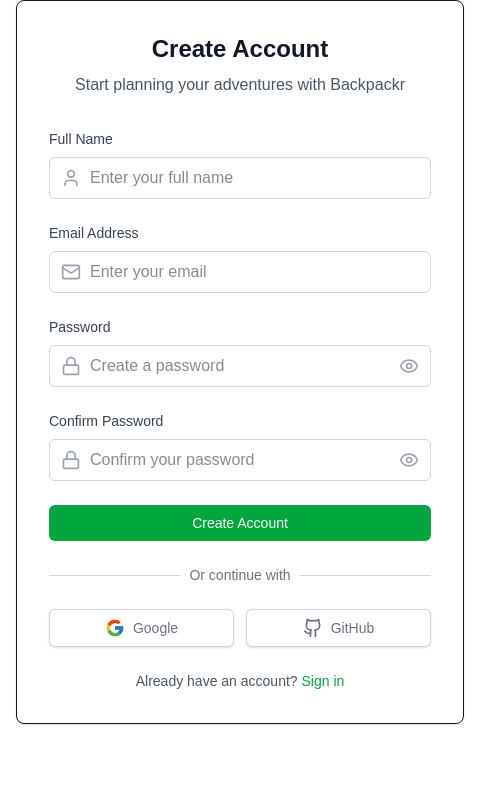
Test case: SignupForm › Form Validation › shows error when password is empty
Type "John Doe" into the field labelled "Full Name" at (240, 178), box [49,157,431,199]
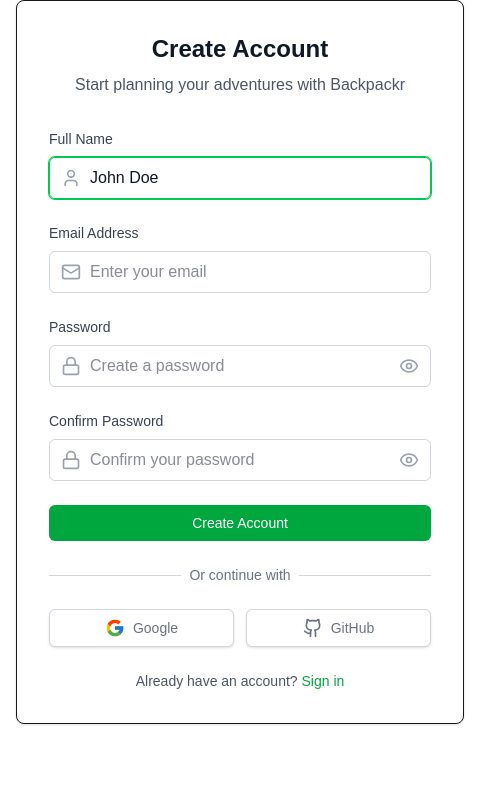
Type "john@example.com" into the field labelled "Email Address" at (240, 272), box [49,251,431,293]
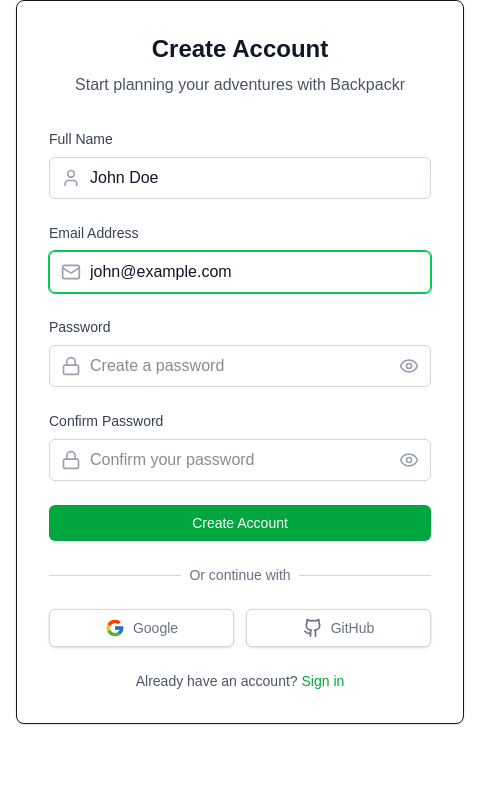
Type "password123" into the password field labelled "Confirm Password" at (240, 460), box [49,439,431,481]
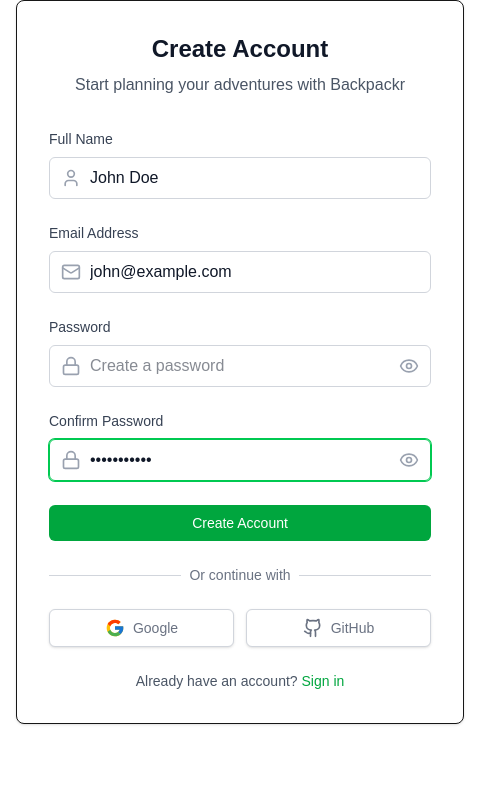
Click the button "Create Account" at (240, 523), box [49,505,431,541]
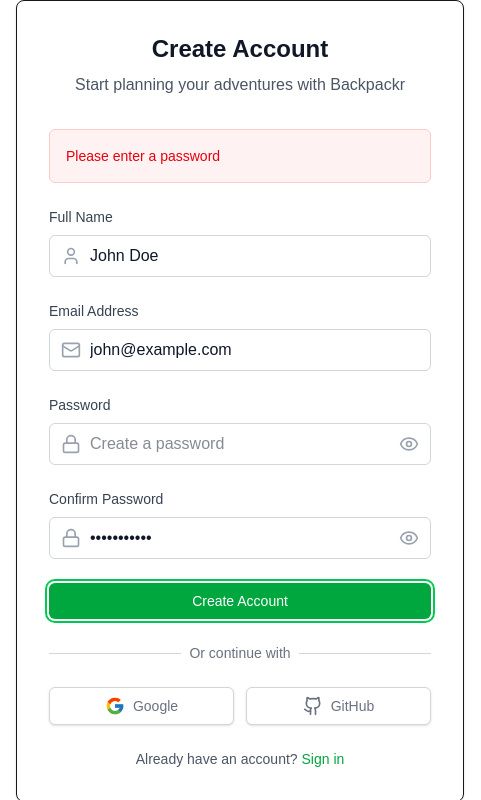
Now the text "Please enter a password" is shown, box [66,148,220,164]
